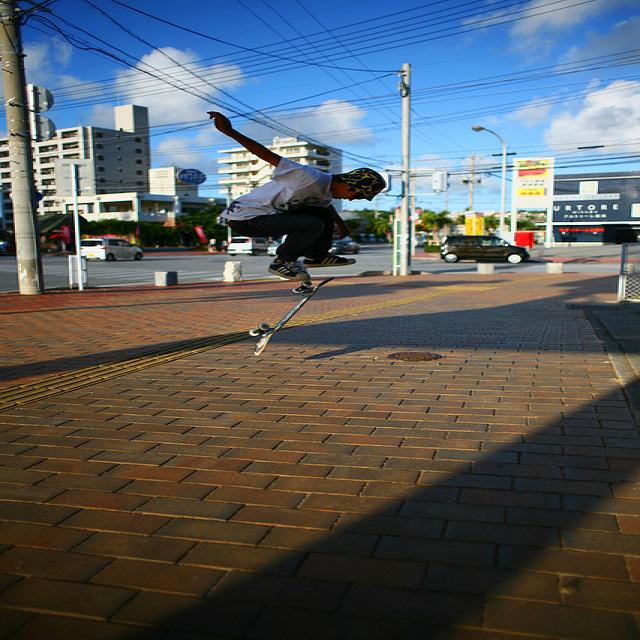Vehicle: (441, 236, 531, 264), (80, 236, 147, 262), (225, 236, 269, 256), (328, 239, 362, 255)
